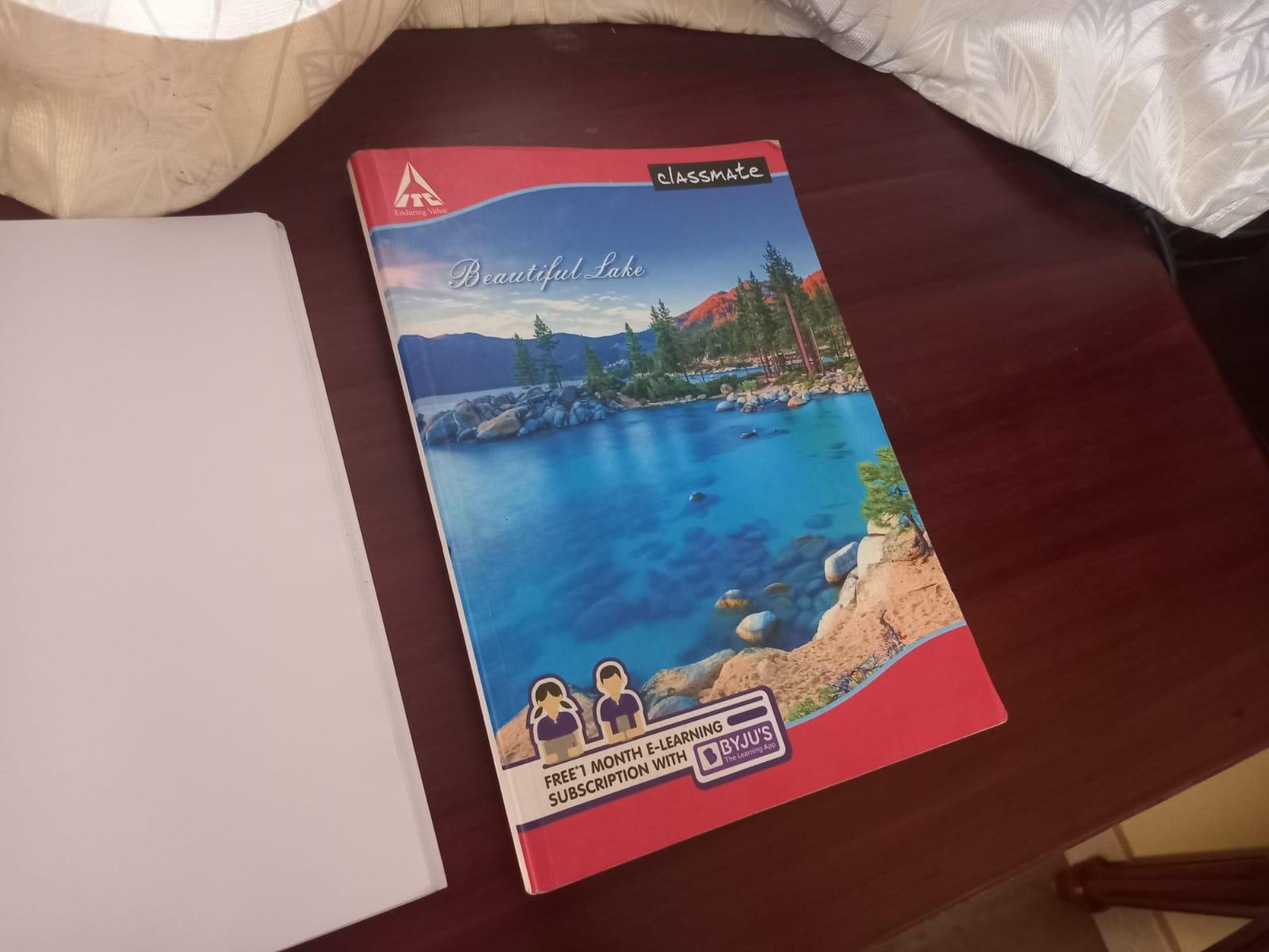notebooks: (424, 149, 911, 901), (8, 226, 320, 952)
